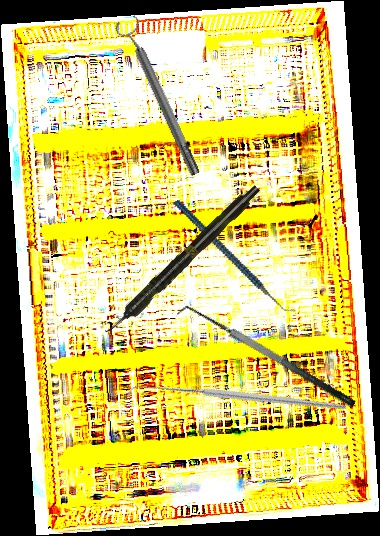Chopper: (172, 173, 299, 339)
Fixation Ring: (112, 13, 208, 181)
Handpiece: (100, 181, 264, 340)
Hook Surgical: (126, 296, 348, 505)
Spatula Surgical: (174, 294, 358, 423)
